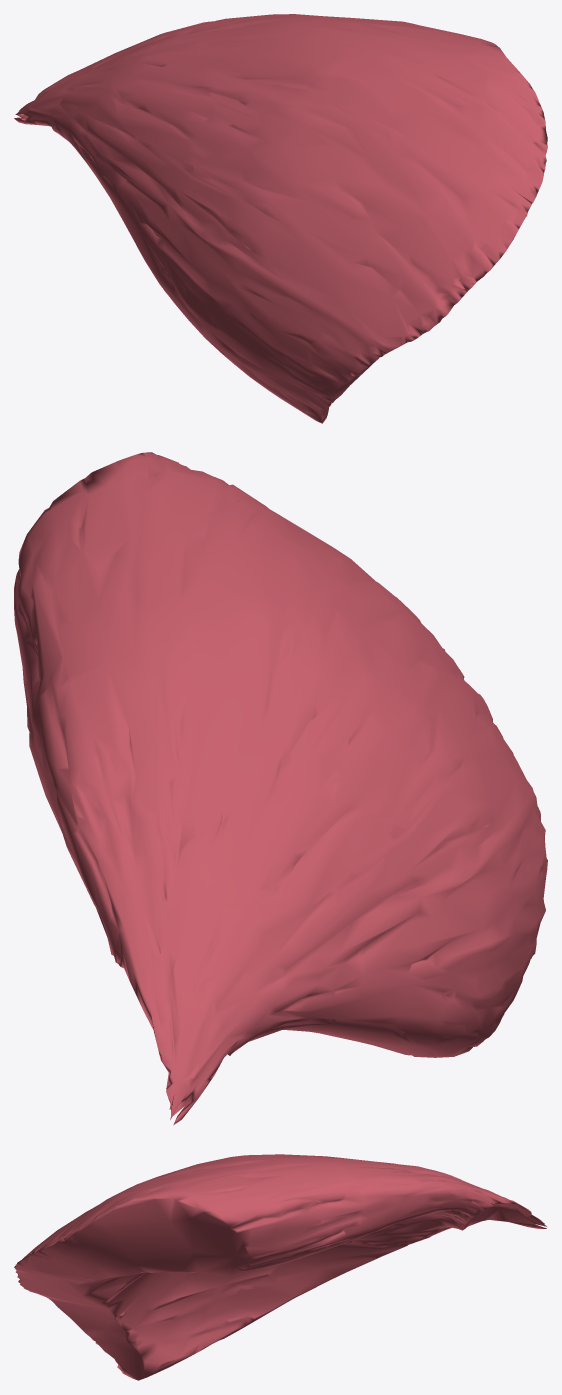
The picture shows the model from 3 angles, top to bottom: view 1: azimuth 30°, elevation 25°; view 2: azimuth 150°, elevation 25°; view 3: azimuth 270°, elevation 25°; orthographic projection. The views are drawn at different scales.
Visible parts, largest first — view 1: 右侧臀中肌; view 2: 右侧臀中肌; view 3: 右侧臀中肌.
Boxes of the visible parts, box(x1,y1,x2,y2) form: 右侧臀中肌: box(14, 14, 547, 423); 右侧臀中肌: box(14, 452, 547, 1125); 右侧臀中肌: box(14, 1154, 546, 1380).
Bounding box in the file's own units: 0.1313 × 0.135 × 0.2476.
